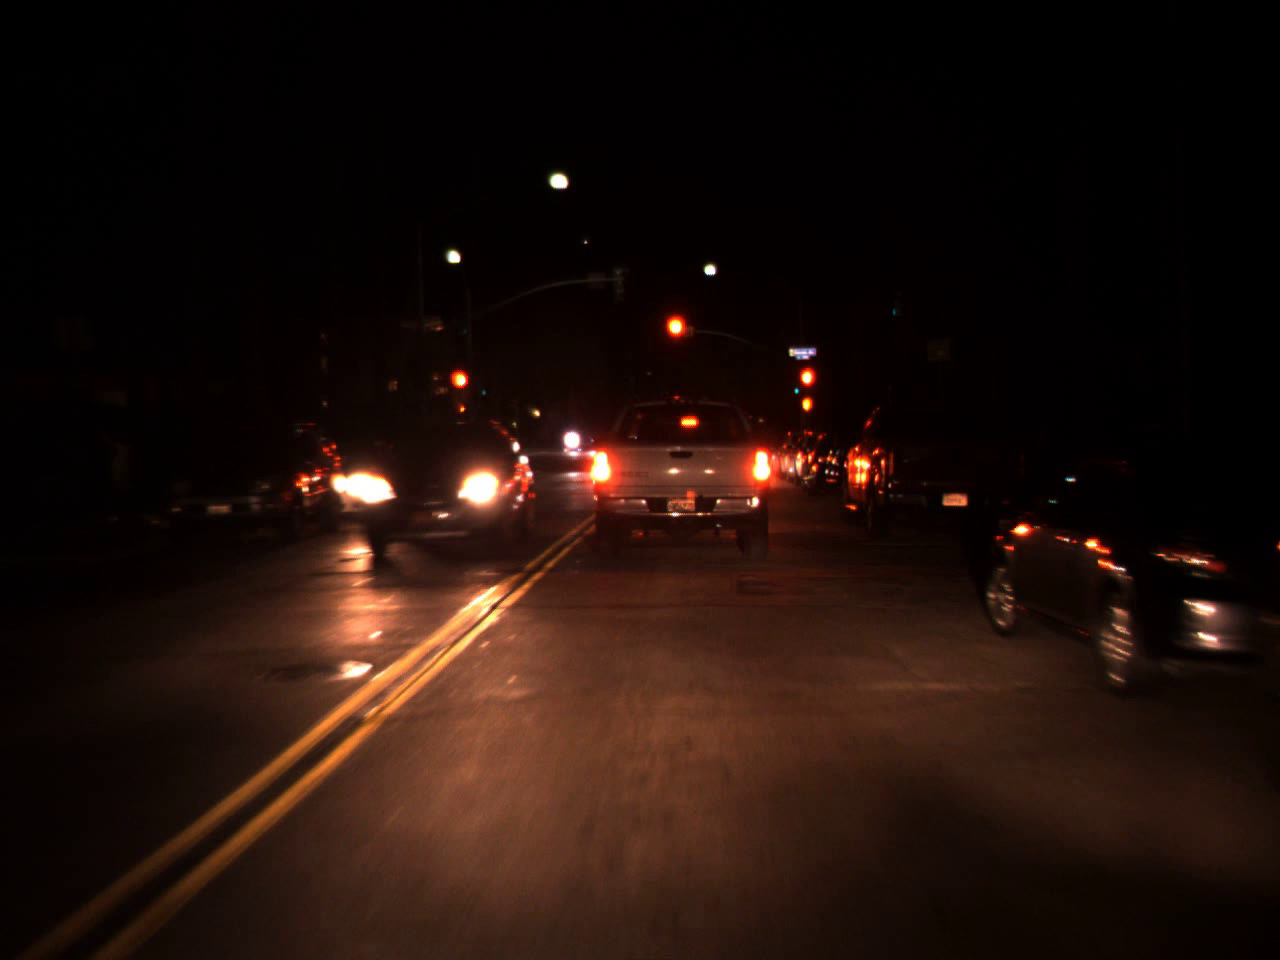stop: (662, 310, 690, 366), (447, 368, 472, 411), (796, 363, 817, 411)
